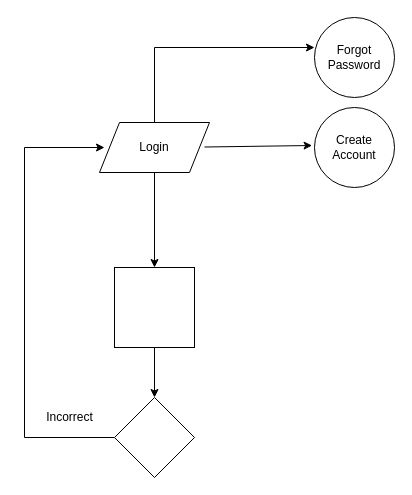
Some shapes in this 412 by 495 pixel diagram are drawn without their labels. The shapes that lost their labels are listed below. From the top down, each one's centre as x and y in pixels, then its label:
the point at 154,307: Username Password Check
the point at 154,437: Correct?
